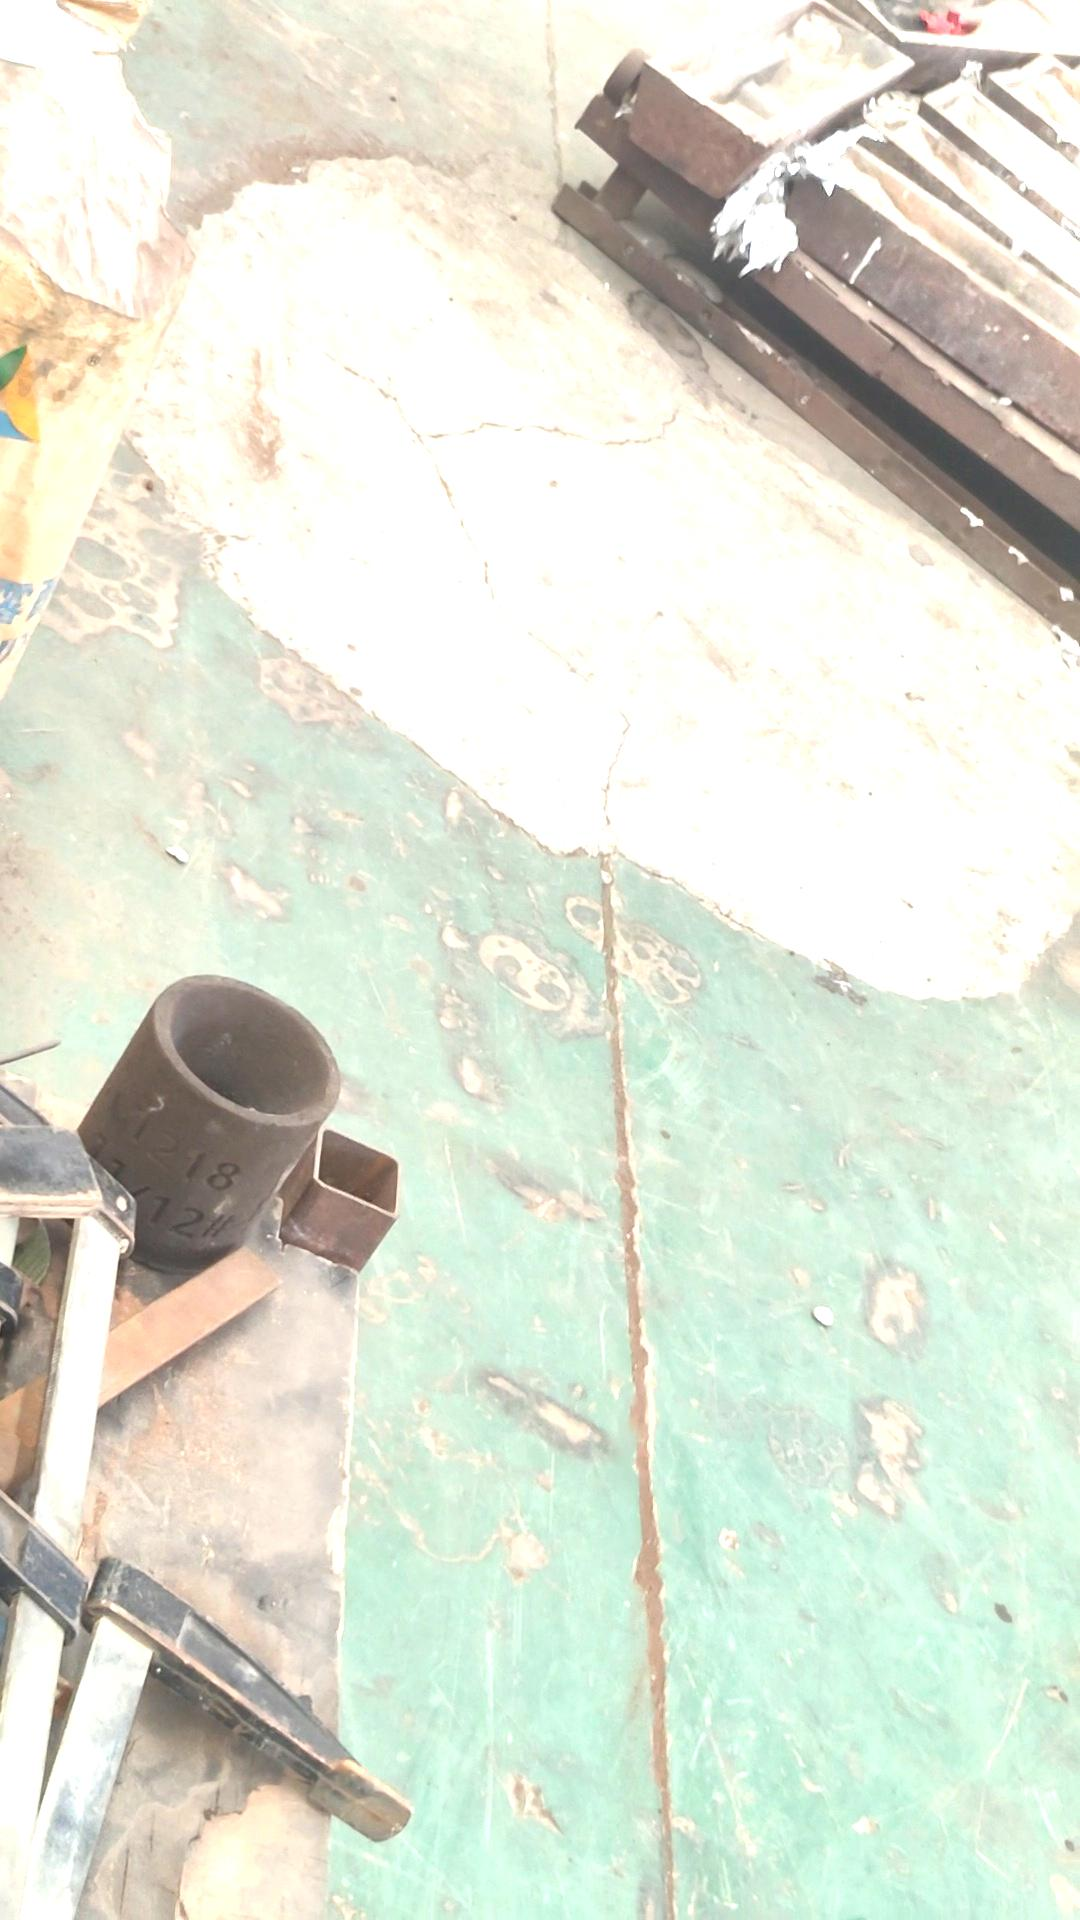pouring hole: (152, 975, 334, 1122)
